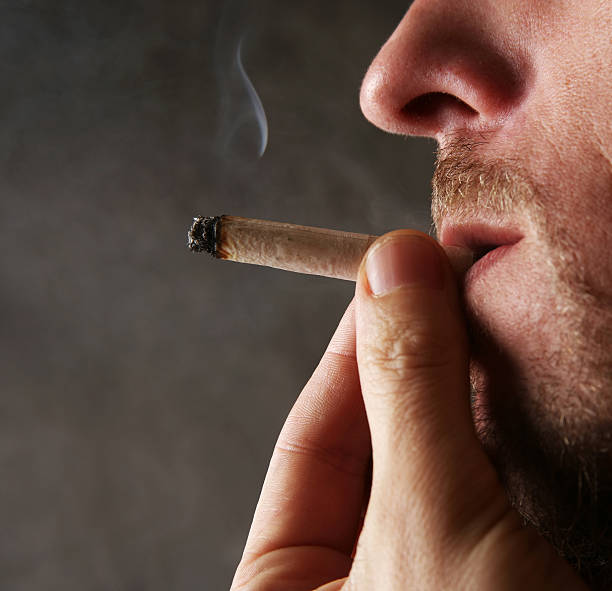cigarette: (186, 212, 382, 282)
